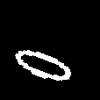chain: (15, 50, 70, 79)
